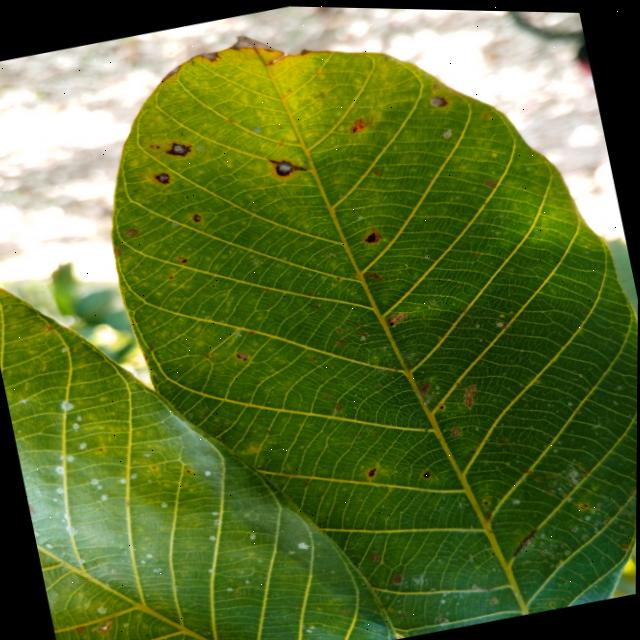Colletotrichum: (169, 139, 191, 158), (273, 159, 294, 177), (154, 170, 171, 184), (193, 212, 202, 222)
